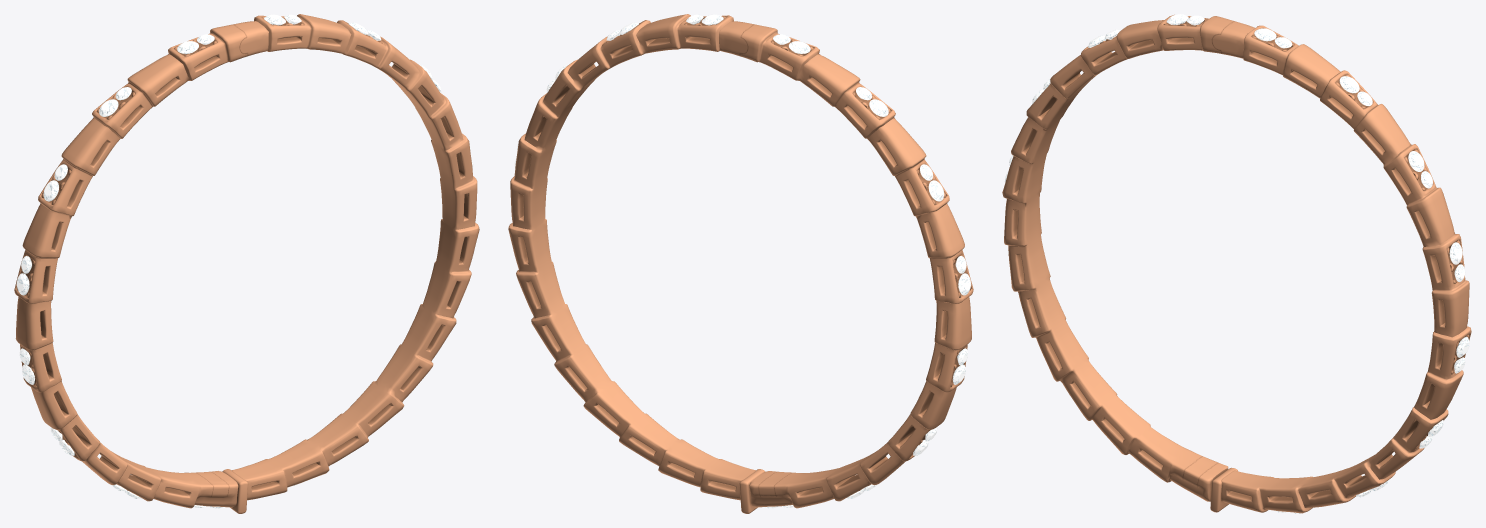
File: Bulgari_bracelet_V7.glb
The picture shows the model from 3 angles, left to right: view 1: azimuth 30°, elevation 25°; view 2: azimuth 150°, elevation 25°; view 3: azimuth 330°, elevation 25°; orthographic projection.
Parts seen in each view (by area): view 1: Piece; view 2: Piece; view 3: Piece.
Boxes of the visible parts, <box> form: Piece: <box>14,14,479,513</box>; Piece: <box>508,14,973,513</box>; Piece: <box>1002,14,1471,513</box>.
Bounding box in the file's own units: 0.1084 × 0.1095 × 0.00855.
3 materials, 1 textured.
